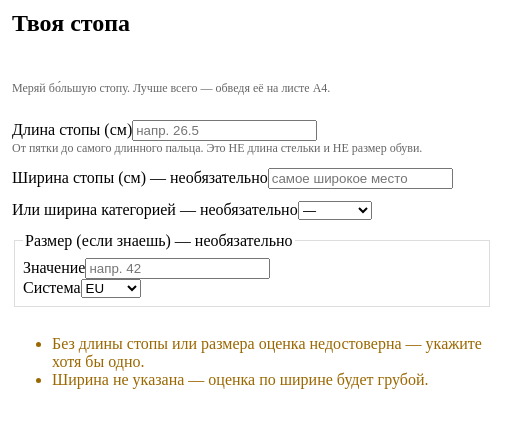
Test case: FootInput › ввод ширины убирает предупреждение про ширину
Type "26.5" into the field labelled "Длина стопы (см)". click: x=225, y=130
box: [132,120,317,141]
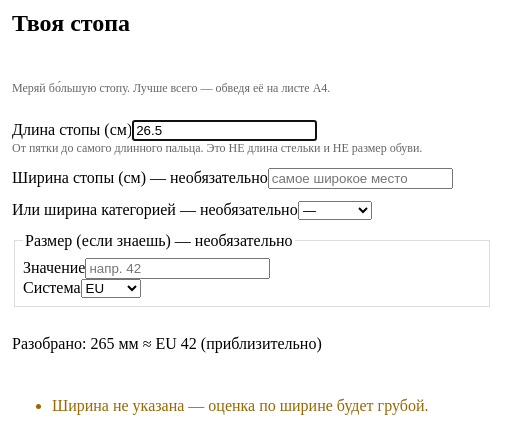
Expected: the list item "Ширина не указана — оценка по ширине будет грубой." is shown, [52,397,492,415]
Type "10" into the field labelled "Ширина стопы (см) — необязательно". click: x=360, y=178
box: [268,168,453,189]
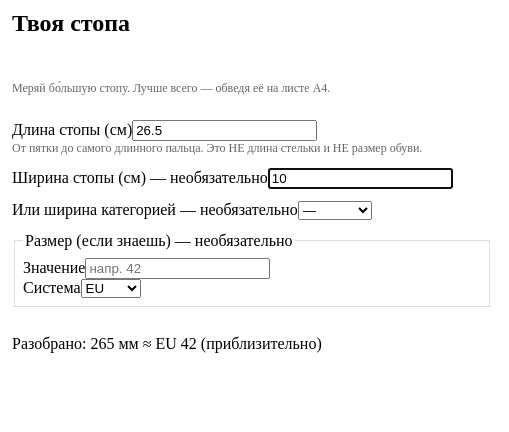
Expected: the list item "Ширина не указана" is gone
